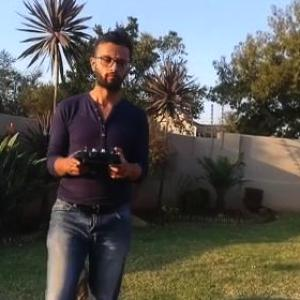follow: (34, 31, 147, 299)
